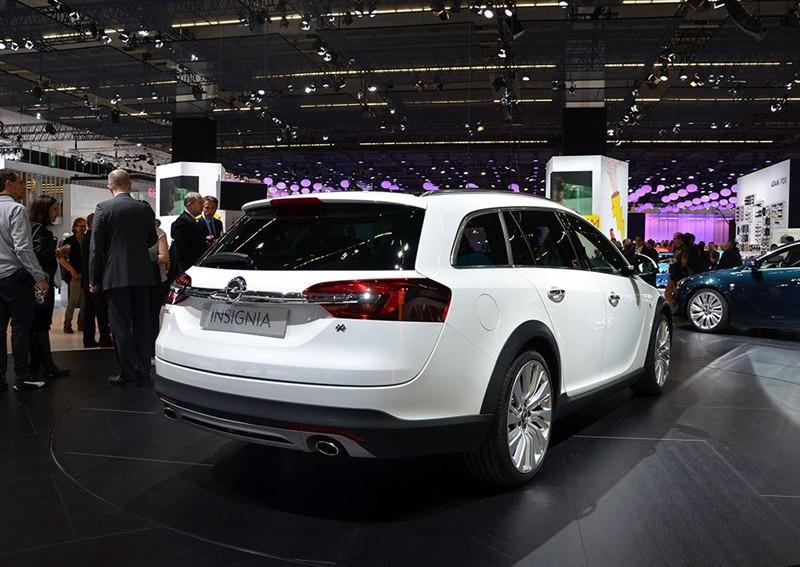Wagon: (150, 187, 676, 490)
